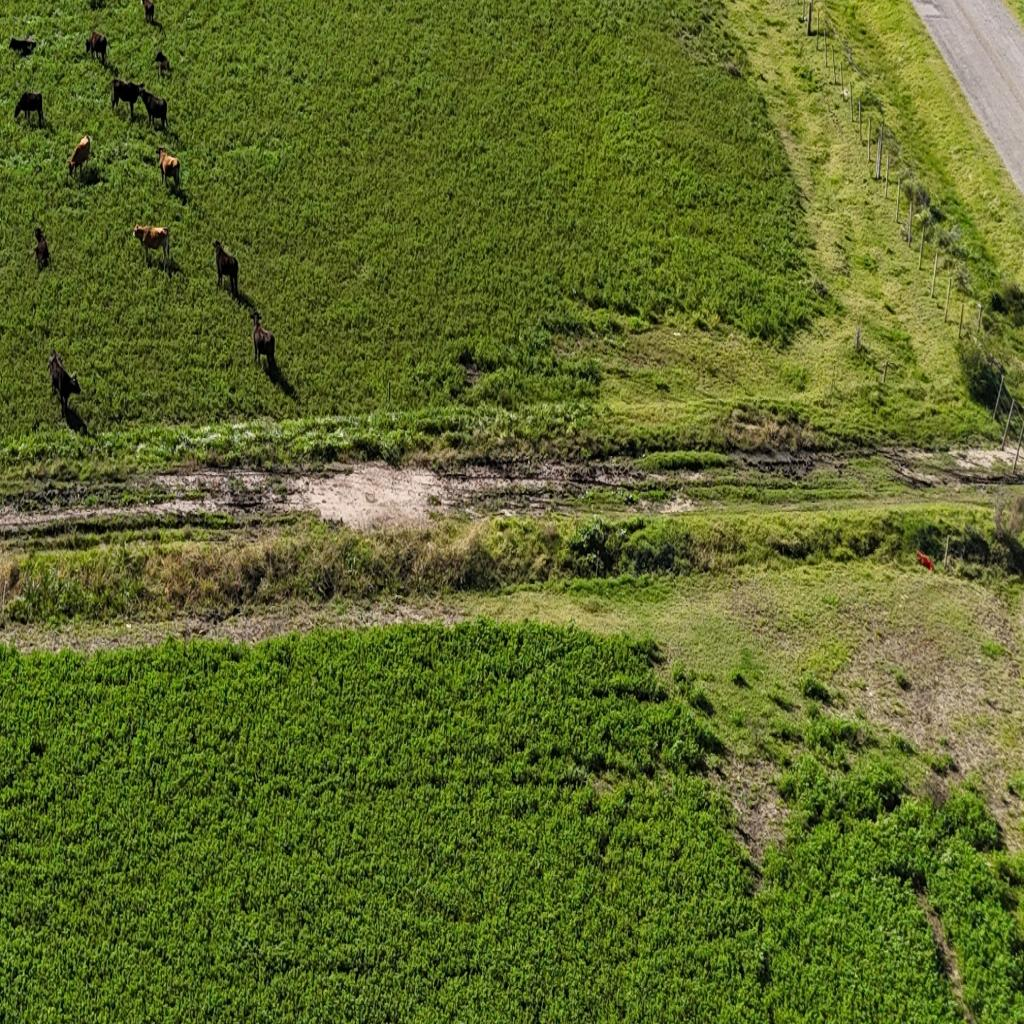cow: (48, 350, 80, 420), (132, 220, 172, 272), (111, 78, 143, 122), (214, 240, 238, 298), (252, 308, 274, 371), (139, 87, 168, 134), (13, 88, 45, 128), (67, 133, 91, 179), (157, 146, 180, 192), (85, 30, 108, 66), (34, 226, 50, 272), (8, 36, 36, 56), (154, 52, 171, 78), (141, 0, 156, 26)
